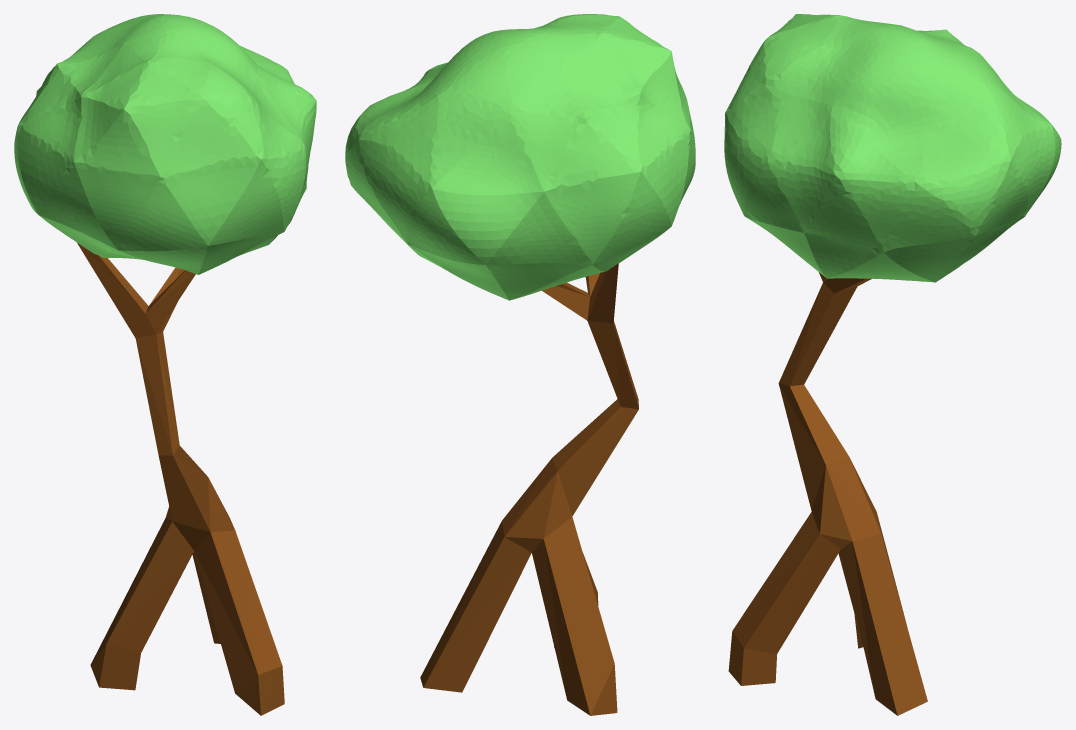
The model's file is tree3.fbx.
3 views of the same model, side by side, from view 1: azimuth 30°, elevation 25°; view 2: azimuth 150°, elevation 25°; view 3: azimuth 270°, elevation 25° (orthographic). The views are drawn at different scales.
Parts seen in each view (by area): view 1: Icosphere, Cube; view 2: Icosphere, Cube; view 3: Icosphere, Cube.
Boxes of the visible parts, x1,y1,x2,y2 form: Icosphere: [14, 14, 316, 274]; Cube: [77, 242, 284, 715]; Icosphere: [345, 14, 695, 300]; Cube: [420, 263, 638, 715]; Icosphere: [724, 14, 1061, 282]; Cube: [728, 272, 927, 715].
Bounding box in the file's own units: 436 × 961 × 458.
